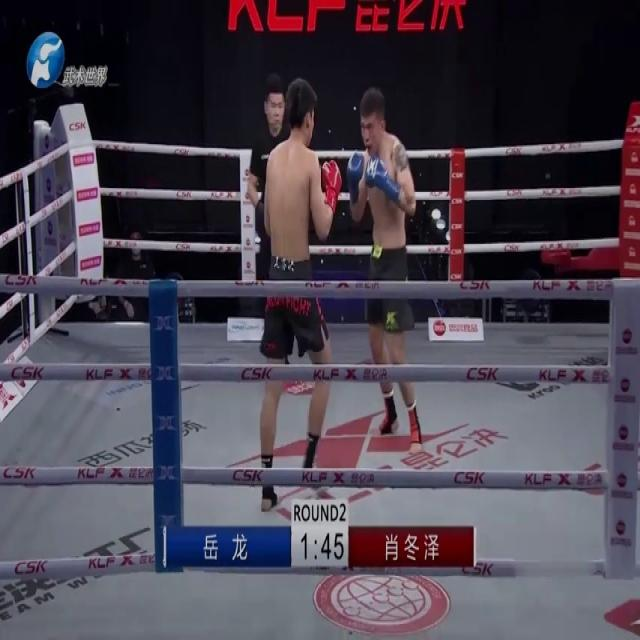fight: (252, 72, 430, 517)
